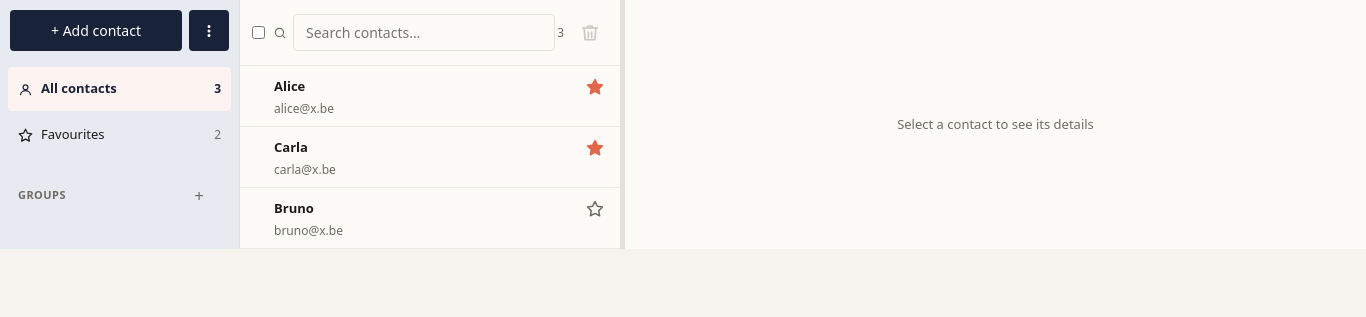
Test: ContactsLayout › drops the open contact when the scope changes
The image size is (1366, 317).
What coordinates should you click on to do the following:
click the text "Bruno"
I would click on:
 (294, 208)
Its box is [274,199,314,217].
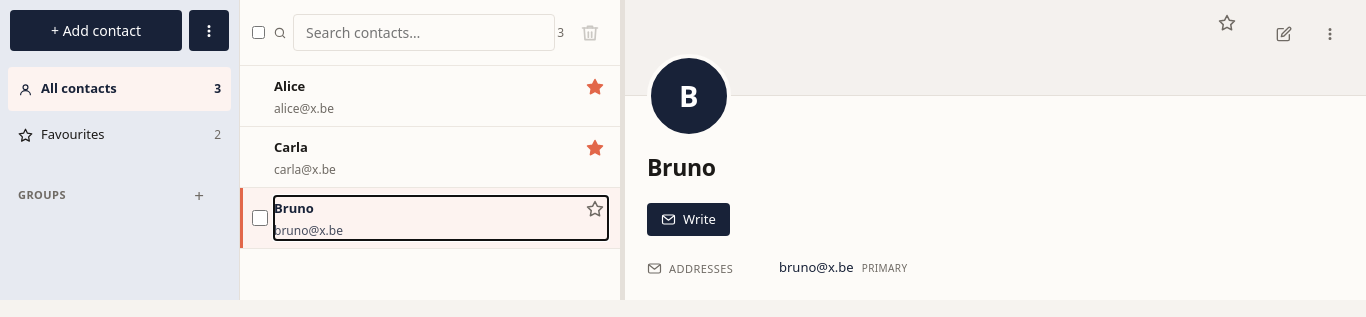
Now the heading "Bruno" is shown, box [647,151,716,183]
What coordinates should you click on to do the following:
click the button "Favourites 2"
I would click on:
 (120, 135)
Its box is [8,113,231,157].
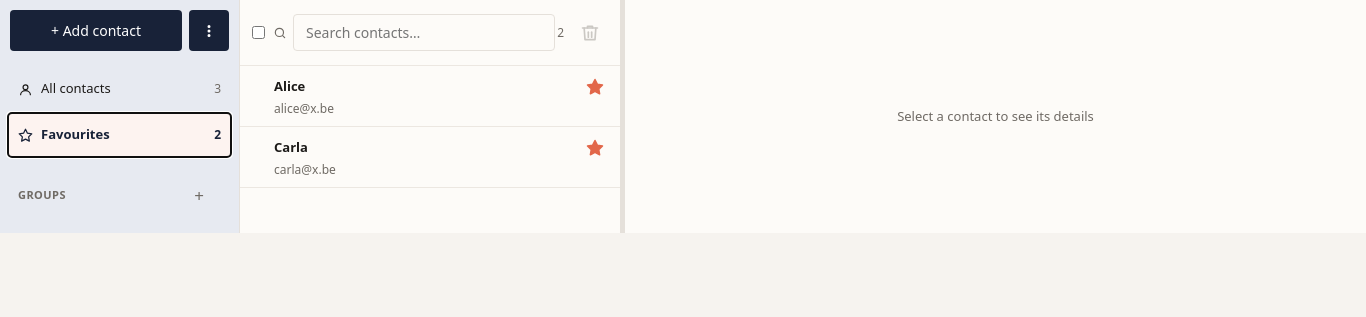
Now the text "Bruno" is gone
Now the text "Select a contact to see its details" is shown, box [897,107,1094,125]
